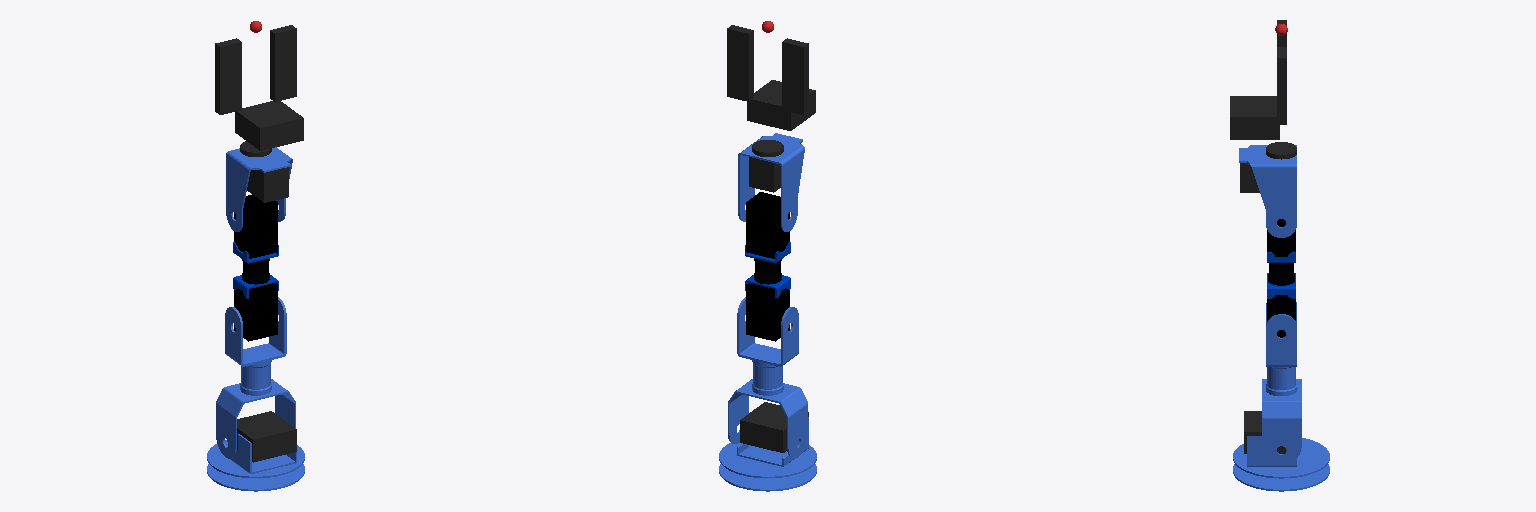
The robot description file, URDF, robot "xArm":
<?xml version="1.0" ?>
<robot name="xArm">

 	<link name="world"/>

	<link name="base_link">
		<visual>
			<origin rpy="0 0 0.0" xyz="0 0 0"/>
      		<geometry>
                <mesh filename="neu_ro_arm/assets/meshes/base.dae"/>
      		</geometry>
            <material name="blue">
                <color rgba="0.3 0.5 0.9 1.0"/>
            </material>
		</visual>
		<collision>
			<origin rpy="0 0 0.0" xyz="0 0 0.0025"/>
      		<geometry>
                <box size="0.154 0.14 0.005"/>
      		</geometry>
		</collision>
        <inertial>
            <mass value="1"/>
            <inertia ixx="0.0001" ixy="0" ixz="0" iyy="0.0001" iyz="0" izz="0.00001"/>
        </inertial>
  	</link>

      <link name="base_swivel_link">
        <visual>
              <origin rpy="0 0 0" xyz="0.0 0.0 0.034"/>
              <geometry>
                  <mesh filename="neu_ro_arm/assets/meshes/lx225.dae"/>
              </geometry>
              <material name="black">
                <color rgba="0.2 0.2 0.2 1.0"/>
              </material>
        </visual>
        <visual>
          <origin rpy="0 0 0" xyz="0 0 0"/>
              <geometry>
                  <mesh filename="neu_ro_arm/assets/meshes/base_swivel.dae"/>
              </geometry>
              <material name="blue">
                <color rgba="0.3 0.5 0.9 1.0"/>
              </material>
        </visual>
		<collision>
			<origin rpy="0 0 0.0" xyz="0 0 0.0"/>
      		<geometry>
                <cylinder length="0.04" radius="0.075"/>
      		</geometry>
		</collision>
        <inertial>
            <mass value="1"/>
            <inertia ixx="0.0001" ixy="0" ixz="0" iyy="0.0001" iyz="0" izz="0.00001"/>
        </inertial>
      </link>

      <link name="upperarm_link">
        <visual>
              <origin rpy="0 0 0" xyz="0.0 0.0 0.0"/>
              <geometry>
                  <mesh filename="neu_ro_arm/assets/meshes/upperarm_link.dae"/>
              </geometry>
              <material name="blue">
                <color rgba="0.3 0.5 0.9 1.0"/>
              </material>
        </visual>
		<collision>
			<origin rpy="0 0 0.0" xyz="0 0 0.055"/>
      		<geometry>
                <box size="0.06 0.04 0.11" />
      		</geometry>
		</collision>
        <inertial>
            <mass value="1"/>
            <inertia ixx="0.0001" ixy="0" ixz="0" iyy="0.0001" iyz="0" izz="0.00001"/>
        </inertial>
      </link>

      <link name="forearm_link">
        <visual>
              <origin rpy="0 0 0" xyz="0.0 0.0 0.0"/>
              <geometry>
                  <mesh filename="neu_ro_arm/assets/meshes/lx15d_double.dae"/>
              </geometry>
              <!--<material name="black">-->
                <!--<color rgba="0.2 0.2 0.2 1.0"/>-->
              <!--</material>-->
        </visual>
        <visual>
              <origin rpy="0 0 0" xyz="0.0 0.0 0.0"/>
              <geometry>
                  <mesh filename="neu_ro_arm/assets/meshes/forearm_link.dae"/>
              </geometry>
        </visual>
        <visual>
              <origin rpy="0 3.14159 0" xyz="0.0 0.0 0.095"/>
              <geometry>
                  <mesh filename="neu_ro_arm/assets/meshes/lx15d_double.dae"/>
              </geometry>
        </visual>
        <collision>
            <origin rpy="0 0 0.0" xyz="0 0 0.05"/>
              <geometry>
                <box size="0.05 0.05 0.11" />
              </geometry>
        </collision>
        <inertial>
            <mass value="1"/>
            <inertia ixx="0.0001" ixy="0" ixz="0" iyy="0.0001" iyz="0" izz="0.00001"/>
        </inertial>
      </link>

      <link name="wrist_link">
        <visual>
              <origin rpy="1.5708 1.5708 0" xyz="0.0 0.0 0.0365"/>
              <geometry>
                  <mesh filename="neu_ro_arm/assets/meshes/lx15d_double.dae"/>
              </geometry>
              <material name="black">
                <color rgba="0.2 0.2 0.2 1.0"/>
              </material>
        </visual>
        <visual>
              <origin rpy="0 0 0" xyz="0.0 0.0 0.0"/>
              <geometry>
                  <mesh filename="neu_ro_arm/assets/meshes/wrist_link.dae"/>
              </geometry>
              <material name="blue">
                <color rgba="0.3 0.5 0.9 1.0"/>
              </material>
        </visual>
		<collision>
			<origin rpy="0 0 0.0" xyz="0 -0.01 0.025"/>
      		<geometry>
                <box size="0.05 0.055 0.06" />
      		</geometry>
		</collision>
        <inertial>
            <mass value="1"/>
            <inertia ixx="0.0001" ixy="0" ixz="0" iyy="0.0001" iyz="0" izz="0.00001"/>
        </inertial>
      </link>

      <link name="hand_link">
        <visual>
              <origin rpy="0 0 0.0" xyz="0 0 0.003"/>
              <geometry>
                <cylinder length="0.004" radius="0.0125"/>
              </geometry>
              <material name="black">
                <color rgba="0.2 0.2 0.2 1.0"/>
              </material>
        </visual>
        <visual>
              <origin rpy="0 0 0" xyz="0.0 -0.0215 0.032"/>
              <geometry>
                <box size="0.04 0.04 0.02"/>
              </geometry>
              <material name="black">
                <color rgba="0.2 0.2 0.2 1"/>
              </material>
        </visual>
        <collision>
              <origin rpy="0 0 0" xyz="0.0 -0.0115 0.027"/>
              <geometry>
                <box size="0.06 0.05 0.05"/>
              </geometry>
        </collision>
        <inertial>
            <mass value="1"/>
            <inertia ixx="0.0001" ixy="0" ixz="0" iyy="0.0001" iyz="0" izz="0.00001"/>
        </inertial>
      </link>

      <link name="virtual_palm_link">
        <visual>
              <origin rpy="0 0 0.0" xyz="0 0.0 0.0"/>
              <geometry>
                <sphere radius="0.005"/>
              </geometry>
              <material name="red">
                <color rgba="0.8 0.2 0.2 0.5"/>
              </material>
        </visual>
        <inertial>
            <mass value="1"/>
            <inertia ixx="0.0001" ixy="0" ixz="0" iyy="0.0001" iyz="0" izz="0.00001"/>
        </inertial>
      </link>

      <link name="gripper_left_link">
        <visual>
              <origin rpy="0 0 0.0" xyz="-0.004 0.0 0.025"/>
              <geometry>
                <box size="0.02 0.008 0.06"/>
              </geometry>
              <material name="black">
                <color rgba="0.2 0.2 0.2 1.0"/>
              </material>
        </visual>
        <collision>
              <origin rpy="0 0 0.0" xyz="-0.004 0.0 0.025"/>
              <geometry>
                <box size="0.02 0.008 0.06"/>
              </geometry>
        </collision>
		<contact>
			<lateral_friction value="20.0"/>
			<spinning_friction value="0.0"/>
			<rolling_friction value="0.0"/>
		</contact>
        <inertial>
            <mass value="1"/>
            <inertia ixx="0.0001" ixy="0" ixz="0" iyy="0.0001" iyz="0" izz="0.00001"/>
        </inertial>
      </link>
    
      <link name="gripper_right_link">
		<visual>
			<origin rpy="0 0 0.0" xyz="0.004 0.00 0.025"/>
			<geometry>
				<box size="0.02 0.008 0.06"/>
			</geometry>
			<material name="black">
				<color rgba="0.2 0.2 0.2 1.0"/>
			</material>
		</visual>
        <collision>
              <origin rpy="0 0 0.0" xyz="0.004 0.0 0.025"/>
              <geometry>
                <box size="0.02 0.008 0.06"/>
              </geometry>
        </collision>
		<contact>
			<lateral_friction value="20.0"/>
			<spinning_friction value="0.0"/>
			<rolling_friction value="0.0"/>
		</contact>
        <inertial>
            <mass value="1"/>
            <inertia ixx="0.0001" ixy="0" ixz="0" iyy="0.0001" iyz="0" izz="0.00001"/>
        </inertial>
      </link>


     <joint name="world_joint" type="fixed">
        <parent link="world"/>
        <child link="base_link"/>
	   	<origin rpy="0.0 0.0 1.5708" xyz="0.0 0.0 0.012"/>
     </joint>

      <joint name="base_joint" type="revolute">
        <parent link="base_link"/>
        <child link="base_swivel_link"/>
        <origin rpy="0.0 0.0 -1.5708" xyz="0.0 0.0 0.034"/>
        <limit lower="-2.0" upper="2.0" velocity="2.09"/>
		<dynamics damping="10" friction="0.0"/>
        <axis xyz="0 0 1"/>
      </joint>

      <joint name="shoulder_joint" type="revolute">
        <parent link="base_swivel_link"/>
        <child link="upperarm_link"/>
        <origin rpy="0.0 0.0 0.0" xyz="0.0 0.0 0.031"/>
        <limit lower="-2.0" upper="2.0" velocity="2.09"/>
		<dynamics damping="10" friction="0.0"/>
        <axis xyz="-1 0 0"/>
      </joint>

      <joint name="elbow_joint" type="revolute">
        <parent link="upperarm_link"/>
        <child link="forearm_link"/>
        <origin rpy="0.0 0.0 0.0" xyz="0.0 0.0 0.101"/>
        <limit lower="-2.0" upper="2.0" velocity="2.09"/>
		<dynamics damping="10" friction="0.0"/>
        <axis xyz="-1 0 0"/>
      </joint>

      <joint name="wrist_joint" type="revolute">
        <parent link="forearm_link"/>
        <child link="wrist_link"/>
        <origin rpy="0.0 0.0 0.0" xyz="0.0 0.0 0.0965"/>
        <limit lower="-2.0" upper="2.0" velocity="2.09"/>
		<dynamics damping="10" friction="0.0"/>
        <axis xyz="-1 0 0"/>
      </joint>

      <joint name="wristRotation_joint" type="revolute">
        <parent link="wrist_link"/>
        <child link="hand_link"/>
        <origin rpy="0.0 0.0 0" xyz="0.0 0.0 0.052"/>
        <limit lower="-2.0" upper="2.0" velocity="2.09"/>
		<dynamics damping="10" friction="0.0"/>
        <axis xyz="0 0 1"/>
      </joint>

      <joint name="virtual_palm_joint" type="fixed">
        <parent link="hand_link"/>
        <child link="virtual_palm_link"/>
        <origin rpy="0.0 0.0 0.0" xyz="0.0 0.0 0.110"/>
      </joint>

      <joint name="gripper_left_joint" type="prismatic">
        <parent link="hand_link"/>
        <child link="gripper_left_link"/>
        <origin rpy="0.0 0. 0.0" xyz="0.014 0.0 0.062"/>
        <limit lower="5e-4" upper="0.04243" velocity="0.001"/>
        <axis xyz="0.7071067811865476 0 -0.7071067811865476"/>
      </joint>

      <joint name="gripper_right_joint" type="prismatic">
        <parent link="hand_link"/>
        <child link="gripper_right_link"/>
        <origin rpy="0.0 0.0 0.0" xyz="-0.014 0.0 0.062"/>
        <limit lower="5e-4" upper="0.04243" velocity="0.001"/>
		<axis xyz="-0.7071067811865476 0 -0.7071067811865476"/>
      </joint>


</robot>

--- Render facts (derived) ---
3 views of the same robot in one strip: view 1: azimuth 30°, elevation 25°; view 2: azimuth 150°, elevation 25°; view 3: azimuth 270°, elevation 25° (orthographic).
Model xArm with 10 links and 9 joints (5 revolute, 2 prismatic, 2 fixed), rooted at world, posed all joints at 0 but 2 set to mid-range because 0 is outside their limits (gripper_left_joint = 0.0215, gripper_right_joint = 0.0215).
Visible links, largest first — view 1: base_swivel_link, upperarm_link, forearm_link, wrist_link, hand_link, gripper_left_link, gripper_right_link; view 2: base_swivel_link, upperarm_link, forearm_link, wrist_link, hand_link, gripper_left_link, gripper_right_link; view 3: upperarm_link, base_swivel_link, wrist_link, hand_link, forearm_link, gripper_left_link.
Boxes of the visible links, x1,y1,x2,y2 form: base_swivel_link: (207, 411, 304, 491); upperarm_link: (216, 297, 295, 458); forearm_link: (233, 194, 278, 341); wrist_link: (226, 147, 292, 231); hand_link: (235, 101, 303, 156); gripper_left_link: (270, 25, 296, 101); gripper_right_link: (215, 38, 241, 114); base_swivel_link: (719, 402, 816, 491); upperarm_link: (728, 297, 807, 458); forearm_link: (745, 192, 790, 341); wrist_link: (738, 133, 804, 231); hand_link: (747, 80, 815, 156); gripper_left_link: (727, 25, 753, 101); gripper_right_link: (782, 38, 808, 114); upperarm_link: (1262, 302, 1301, 464); base_swivel_link: (1233, 411, 1329, 491); wrist_link: (1239, 145, 1296, 237); hand_link: (1230, 96, 1296, 159); forearm_link: (1267, 219, 1295, 337); gripper_left_link: (1277, 47, 1286, 124).
Bounding box of the posed robot: 0.078 × 0.0805 × 0.3955 m (x, y, z).
8 mesh visuals loaded from 7 distinct referenced files (6 Collada DAE); not drawn: 1 (reference not matched to a file when rendering).